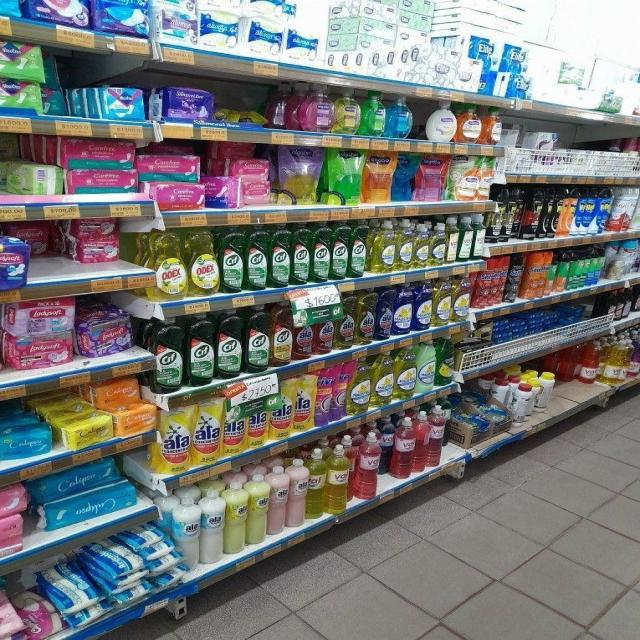ala_conc_amarillo: (356, 290, 374, 345), (334, 308, 354, 349)
ala_conc_azul: (376, 286, 392, 340)
ala_conc_rojo: (293, 317, 313, 359), (314, 317, 334, 354)
ala_crem_amarillo: (225, 479, 247, 556), (248, 471, 268, 546)
ala_crem_blanco: (172, 492, 199, 571), (200, 488, 223, 566)
ala_crem_rosado: (269, 462, 287, 536), (288, 458, 306, 528)
ala_sachet_amarillo: (157, 403, 191, 474), (193, 396, 222, 464), (270, 376, 293, 439), (223, 396, 245, 456), (246, 390, 268, 448), (294, 372, 314, 432)
cif_conc_bot_amarilla: (270, 302, 292, 366)
cif_conc_botella_verde: (151, 316, 184, 392), (186, 312, 215, 386), (216, 308, 242, 378), (244, 304, 270, 372), (219, 227, 244, 293), (245, 226, 268, 291), (269, 224, 291, 288), (312, 222, 331, 283), (292, 223, 310, 285), (349, 221, 367, 278), (331, 221, 348, 281)
drive: (315, 365, 333, 427)
magistral_con_amarillo: (370, 220, 395, 273), (348, 358, 370, 414), (372, 350, 394, 405), (394, 345, 416, 399), (452, 273, 470, 322), (396, 221, 413, 271), (433, 276, 450, 326), (431, 222, 447, 266), (414, 223, 429, 268), (448, 218, 458, 263)
magistral_con_azul: (393, 283, 412, 335), (413, 280, 432, 330)
